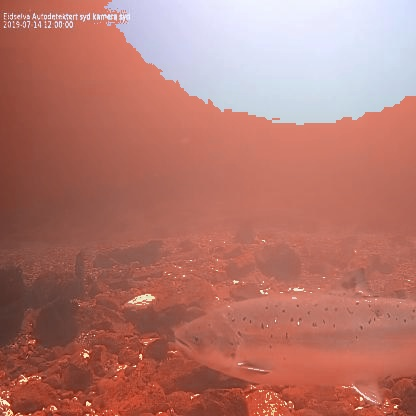salmon: (170, 260, 415, 406)
